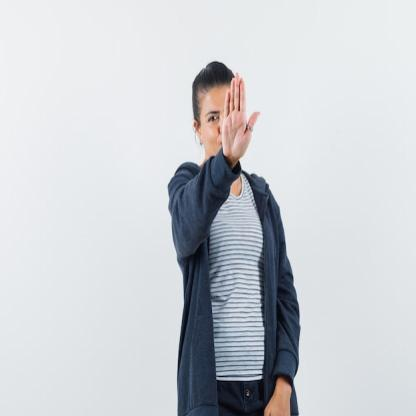stop: (218, 70, 262, 165)
